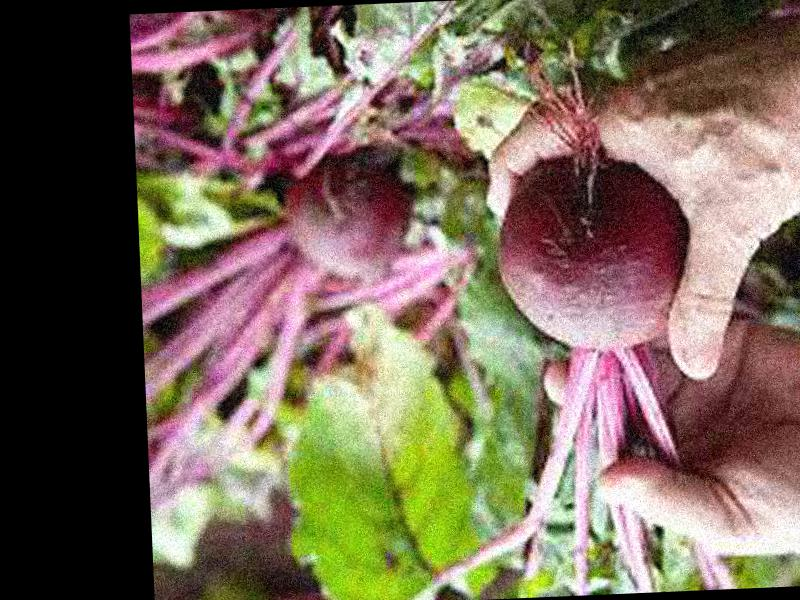Beet: (389, 150, 707, 599)
